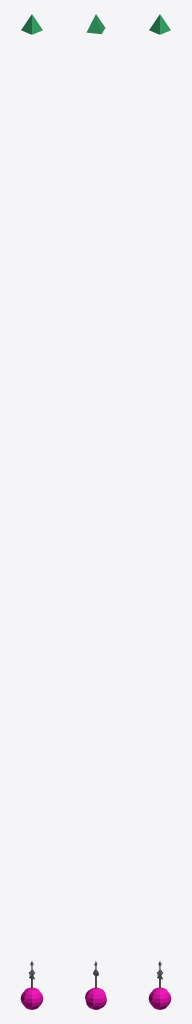
Rendered from projectiles.gltf.
3 views of the same model, side by side, from view 1: azimuth 90°, elevation 25°; view 2: azimuth 210°, elevation 25°; view 3: azimuth 270°, elevation 25° (orthographic).
Visible parts, largest first — view 1: wizard_shell, poison_shell; view 2: wizard_shell, poison_shell; view 3: wizard_shell, poison_shell.
Part boxes in pixels (x1,y1,x2,y2): wizard_shell: (20, 987, 43, 1009); poison_shell: (21, 14, 42, 34); wizard_shell: (85, 987, 106, 1009); poison_shell: (86, 14, 105, 34); wizard_shell: (148, 987, 171, 1009); poison_shell: (149, 14, 170, 34).
Size of the model in its own units: 0.7428 by 35.89 by 0.7428.
7 materials, 7 textured.
